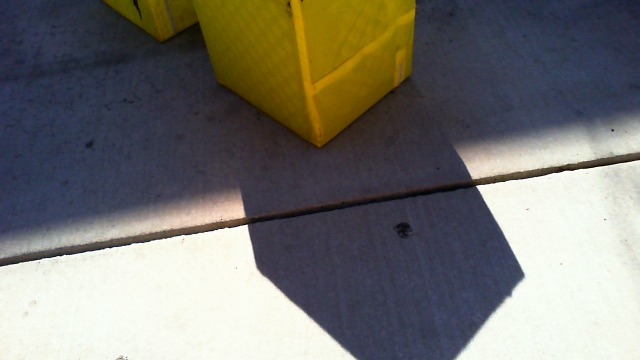cube: (189, 1, 416, 150), (99, 1, 202, 48)
